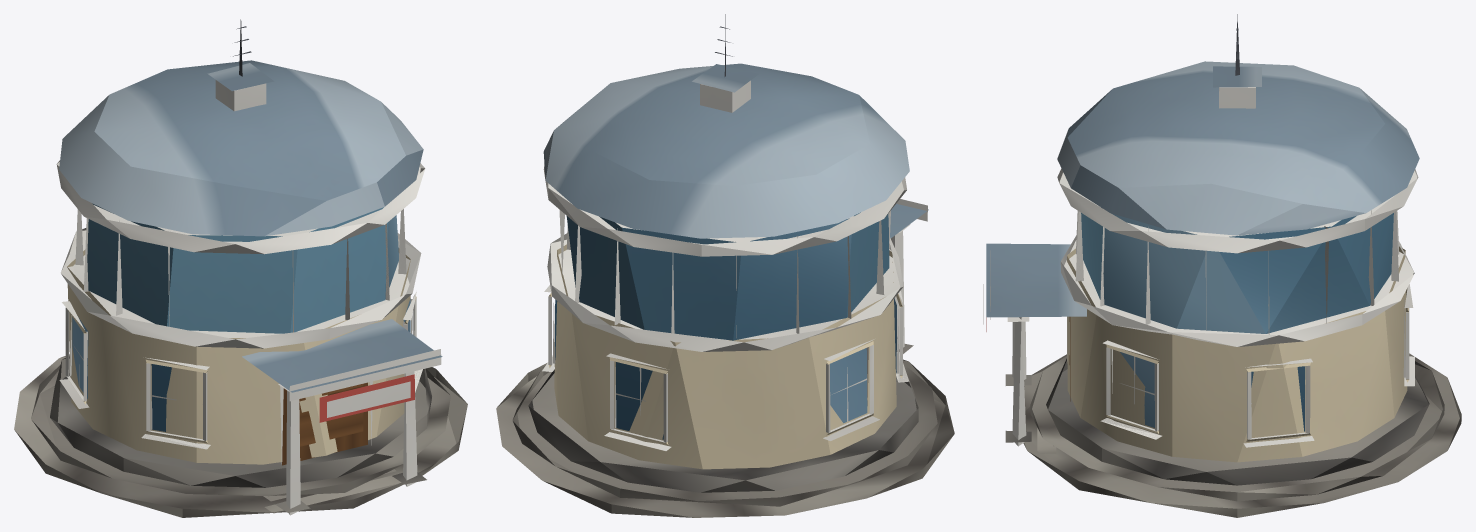
The model's file is Env_Building_PokeLab_LOD2.fbx.
3 renders of one model, left to right at view 1: azimuth 30°, elevation 25°; view 2: azimuth 150°, elevation 25°; view 3: azimuth 270°, elevation 25°, orthographic.
Parts seen in each view (by area): view 1: Env_Building_PokeLab_LOD2; view 2: Env_Building_PokeLab_LOD2; view 3: Env_Building_PokeLab_LOD2.
Boxes of the visible parts, x1,y1,x2,y2 form: Env_Building_PokeLab_LOD2: (14,19,467,517); Env_Building_PokeLab_LOD2: (496,14,954,517); Env_Building_PokeLab_LOD2: (983,14,1461,517).
Bounding box in the file's own units: 870 × 928 × 877.
